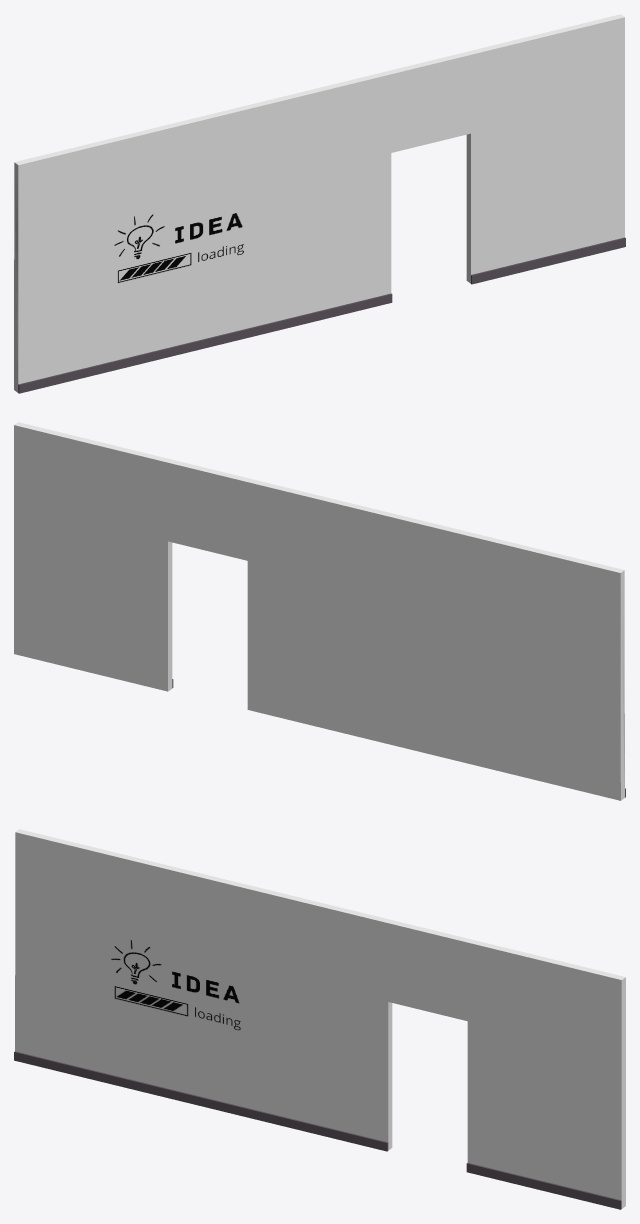
Rendered from Wall 1.fbx.
3 renders of one model, top to bottom at view 1: azimuth 30°, elevation 25°; view 2: azimuth 150°, elevation 25°; view 3: azimuth 330°, elevation 25°, orthographic.
Parts seen in each view (by area): view 1: Wall 1; view 2: Wall 1; view 3: Wall 1.
Boxes of the visible parts, <box> form: Wall 1: <box>14,14,625,393</box>; Wall 1: <box>14,422,625,800</box>; Wall 1: <box>14,829,625,1209</box>.
Size of the model in its own units: 9026 by 3254 by 133.
Materials: 2 (2 with a texture image).
